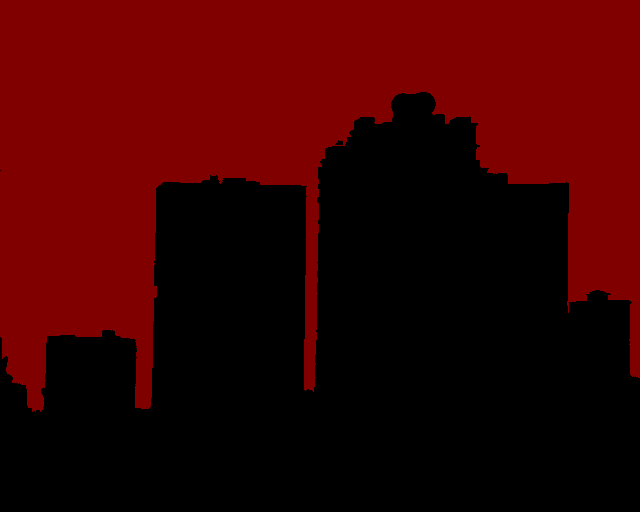Sky: (1, 1, 639, 411)
